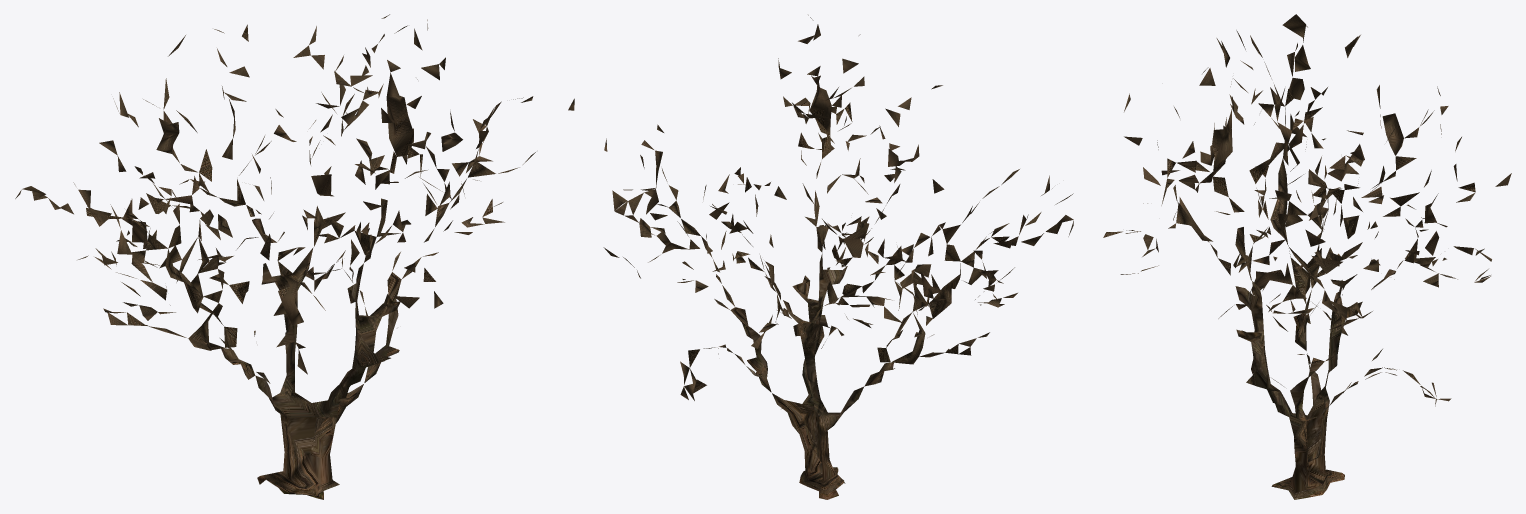
Rendered from jacaranda_L1_madera.glb.
3 renders of one model, left to right at view 1: azimuth 30°, elevation 25°; view 2: azimuth 150°, elevation 25°; view 3: azimuth 270°, elevation 25°, orthographic. The views are drawn at different scales.
Visible parts, largest first — view 1: jacaranda_tree_LOD0; view 2: jacaranda_tree_LOD0; view 3: jacaranda_tree_LOD0.
Boxes of the visible parts, left/top/right/bottom form: jacaranda_tree_LOD0: left=15, top=14, right=574, bottom=499; jacaranda_tree_LOD0: left=603, top=15, right=1073, bottom=499; jacaranda_tree_LOD0: left=1103, top=14, right=1511, bottom=499.
Size of the model in its own units: 22.1 by 18.81 by 15.38.
2 materials, 2 textured.
